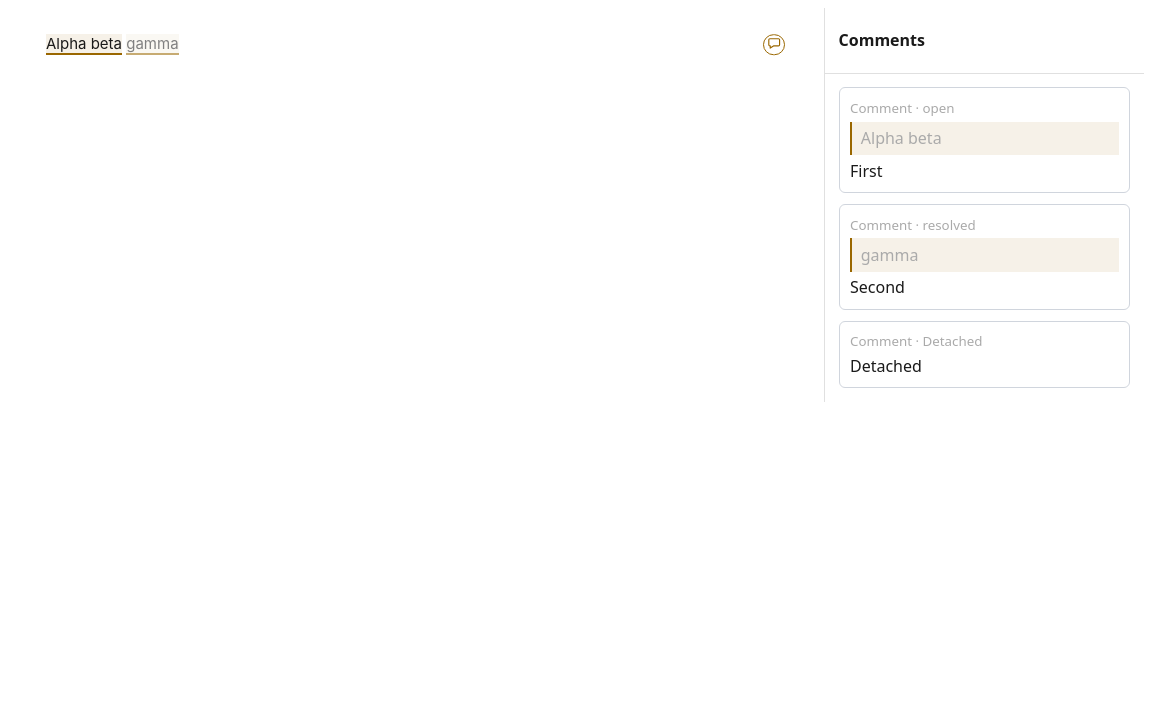
Scenario: MarkdownEditor › uses one icon and exposes every comment anchored on the same source line
The image size is (1152, 720).
Expected: the icon is shown, 767,37 -> 781,51
Click the button with class "me-comment-gutter-badge": (774, 44) 763,34 -> 785,55
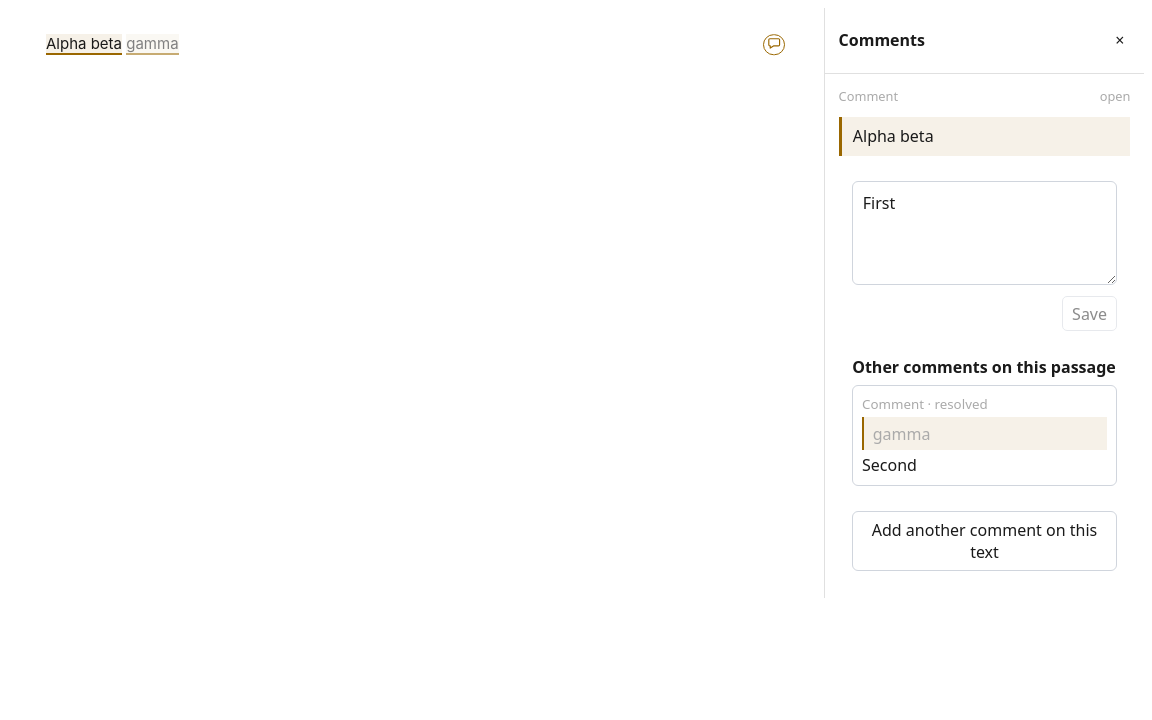
Expected: the element with class "me-comment-panel__related" shows "gamma", 852,385 -> 1117,486
Expected: the element with class "me-comment-panel__related" shows "Second", 852,385 -> 1117,486
Click the button with class "me-comment-panel__add-related": (984, 541) 852,511 -> 1117,571
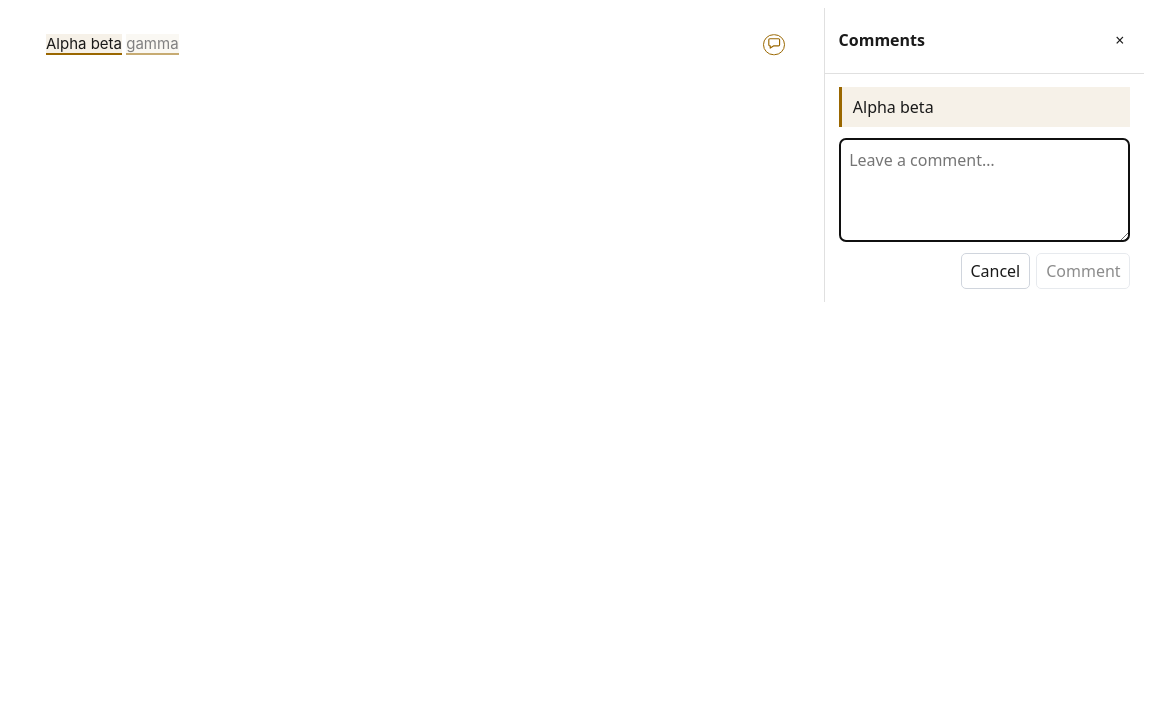
Expected: the text with class "me-comment-panel__quote" reads "Alpha beta", 853,96 -> 934,118
Click the button with class "me-comment-panel__close": (1120, 40) 1109,28 -> 1130,52
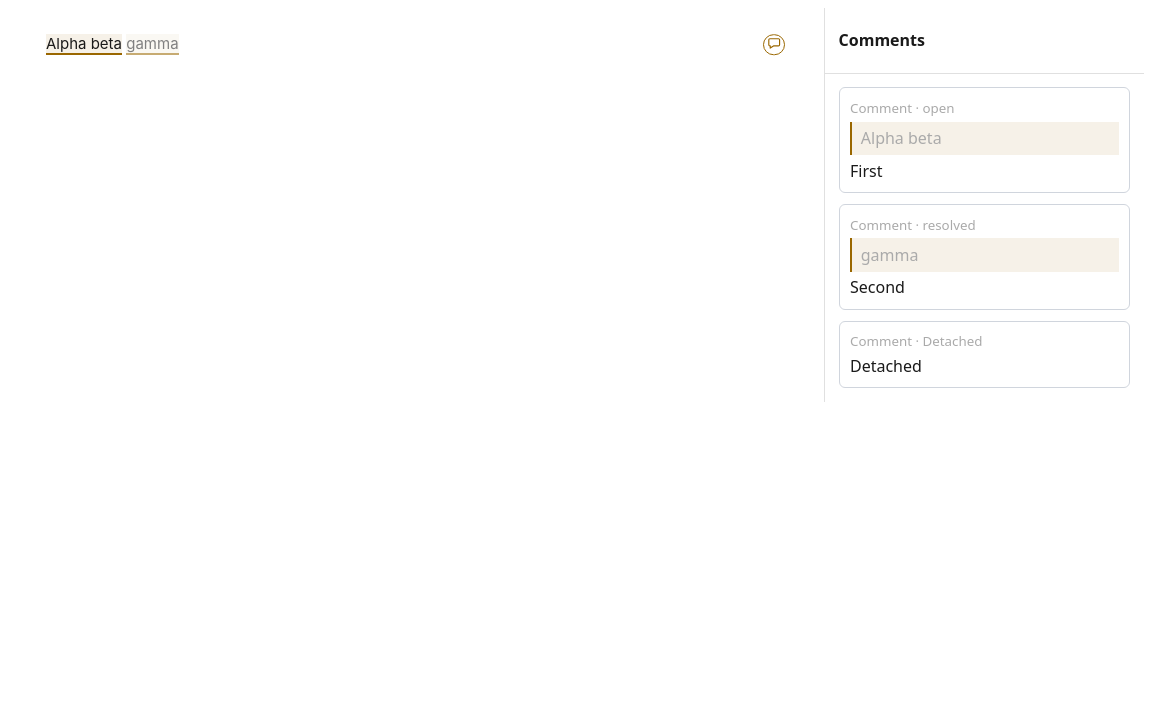
Click the button with class "me-comment-panel__item" showing "Comment · Detached Detached": (881, 341) 839,321 -> 1130,388
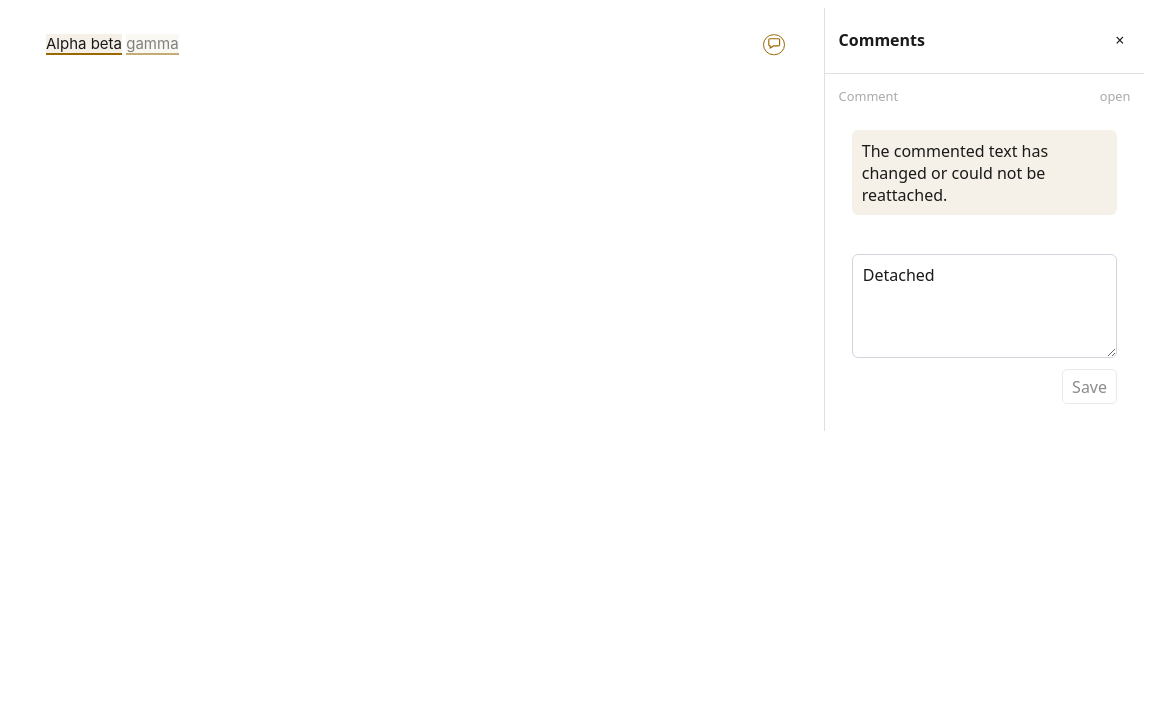
Expected: the message "The commented text has changed or could not be reattached." is shown, 852,130 -> 1117,215
